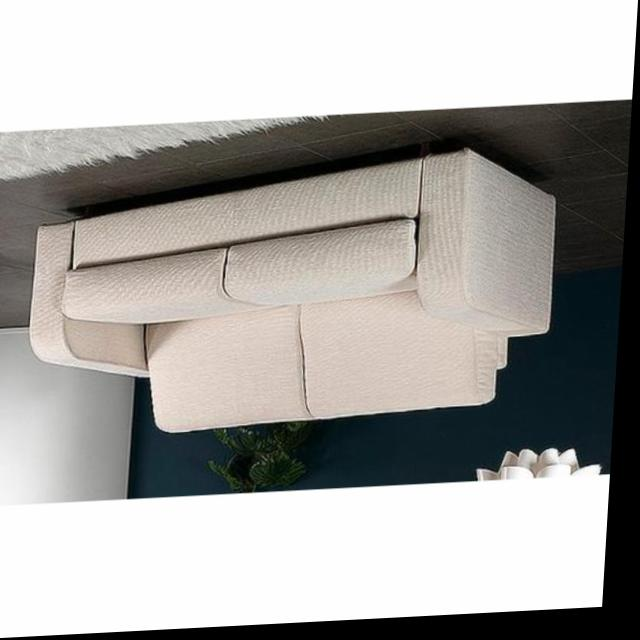Sofa: (31, 146, 567, 444)
